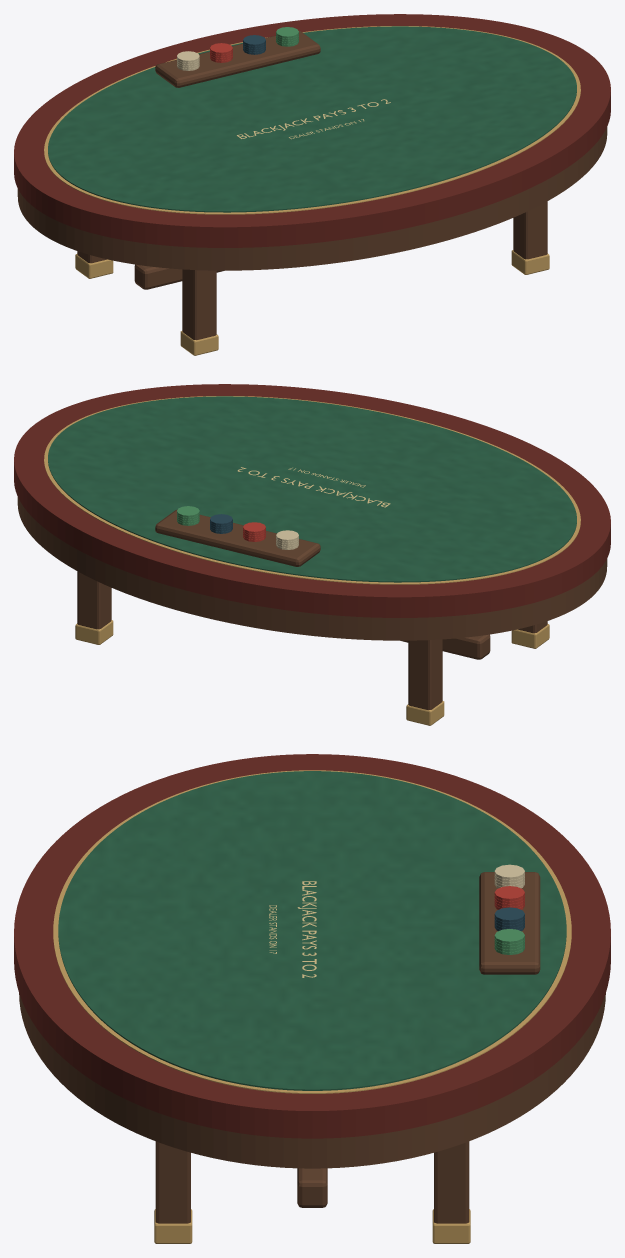
The model's file is blackjack-table.glb.
3 renders of one model, top to bottom at view 1: azimuth 30°, elevation 25°; view 2: azimuth 150°, elevation 25°; view 3: azimuth 270°, elevation 25°, orthographic. The views are drawn at different scales.
Visible parts, largest first — view 1: playing cloth, upholstered rail, table walnut apron, brass inner reveal, cloth BLACKJACK PAYS 3 TO 2; view 2: playing cloth, upholstered rail, table walnut apron, brass inner reveal, cloth BLACKJACK PAYS 3 TO 2; view 3: playing cloth, upholstered rail, table walnut apron, brass inner reveal, cloth BLACKJACK PAYS 3 TO 2, house chip.015, house chip, house chip.005, house chip.010.
Boxes of the visible parts, x1,y1,x2,y2 form: playing cloth: (48,26,576,212); upholstered rail: (14,14,610,247); table walnut apron: (17,30,607,340); brass inner reveal: (44,26,580,355); cloth BLACKJACK PAYS 3 TO 2: (237,99,390,139); playing cloth: (48,396,576,582); upholstered rail: (14,384,610,617); table walnut apron: (17,497,607,710); brass inner reveal: (44,396,580,725); cloth BLACKJACK PAYS 3 TO 2: (237,467,390,507); playing cloth: (58,771,566,1090); upholstered rail: (14,754,610,1138); table walnut apron: (19,872,605,1223); brass inner reveal: (53,770,571,1243); cloth BLACKJACK PAYS 3 TO 2: (269,881,316,977); house chip.015: (494,929,524,954); house chip: (494,864,524,888); house chip.005: (494,886,524,909); house chip.010: (494,907,524,931).
Bounding box in the file's own units: 3.34 × 0.9885 × 2.36.
Materials: 9 (1 with a texture image).
